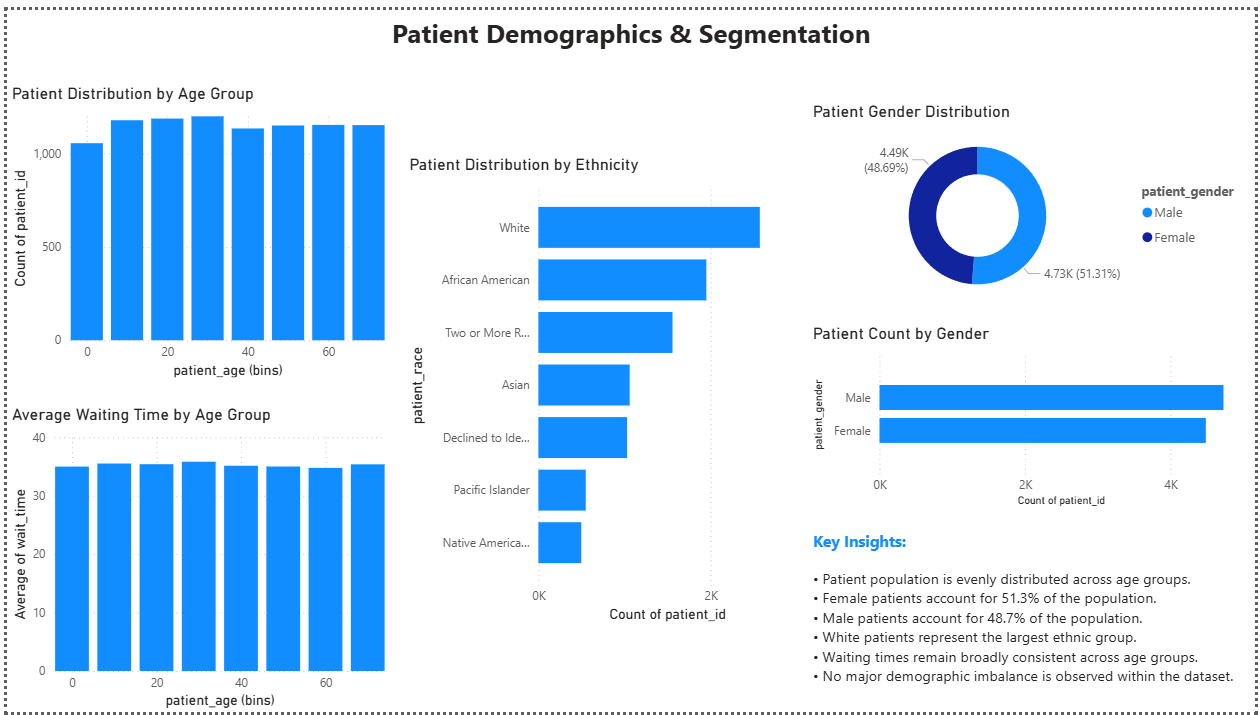

Layout of this report page (visuals, bound fields, positions):
{"tool":"powerbi","page":{"name":"Patient Demographics & Segmentation","canvas":[1280,720],"ordinal":2},"visuals":[{"type":"textbox","box":[0,0,1280.4,51],"z":0},{"type":"clusteredColumnChart","title":"Patient Distribution by Age Group","fields":{"Category":["public patient_flow.patient_age (bins)"],"Y":["CountNonNull(public patient_flow.patient_id)"]},"box":[0,76,392,306],"z":1000},{"type":"clusteredBarChart","title":"Patient Distribution by Ethnicity","fields":{"Category":["public patient_flow.patient_race"],"Y":["CountNonNull(public patient_flow.patient_id)"]},"box":[408,148,414,484],"z":2000},{"type":"clusteredColumnChart","title":"Average Waiting Time by Age Group","fields":{"Category":["public patient_flow.patient_age (bins)"],"Y":["Avg(public patient_flow.wait_time)"]},"box":[0,404,392,316],"z":3000},{"type":"donutChart","title":"Patient Gender Distribution","fields":{"Category":["public patient_flow.patient_gender"],"Y":["CountNonNull(public patient_flow.patient_id)"]},"box":[822,94,458,214],"z":4000},{"type":"clusteredBarChart","title":"Patient Count by Gender","fields":{"Category":["public patient_flow.patient_gender"],"Y":["CountNonNull(public patient_flow.patient_id)"]},"box":[822,322,458,192],"z":5000},{"type":"textbox","box":[822,528,458,192],"z":6000}]}

Visuals, with their boxes in screenshot pixels (x1, y1, x2, y2), scaled from the page's 1280x720 canvas onto the 1260x715 screenshot:
textbox: {"left": 0, "top": 0, "right": 1259, "bottom": 51}
"Patient Distribution by Age Group" clusteredColumnChart: {"left": 0, "top": 75, "right": 386, "bottom": 379}
"Patient Distribution by Ethnicity" clusteredBarChart: {"left": 402, "top": 147, "right": 809, "bottom": 628}
"Average Waiting Time by Age Group" clusteredColumnChart: {"left": 0, "top": 401, "right": 386, "bottom": 714}
"Patient Gender Distribution" donutChart: {"left": 809, "top": 93, "right": 1259, "bottom": 306}
"Patient Count by Gender" clusteredBarChart: {"left": 809, "top": 320, "right": 1259, "bottom": 510}
textbox: {"left": 809, "top": 524, "right": 1259, "bottom": 714}
